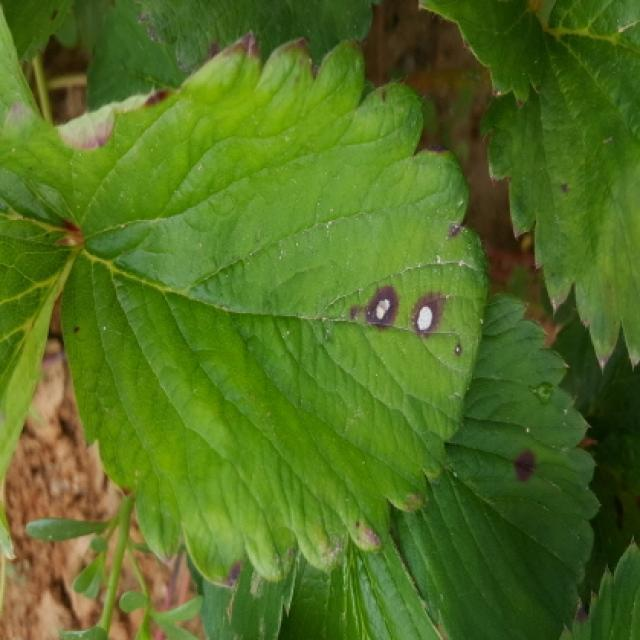Leaf Spot: (55, 30, 489, 590), (389, 291, 603, 638), (476, 0, 638, 376), (0, 88, 179, 221), (559, 539, 638, 638), (0, 0, 82, 68)
